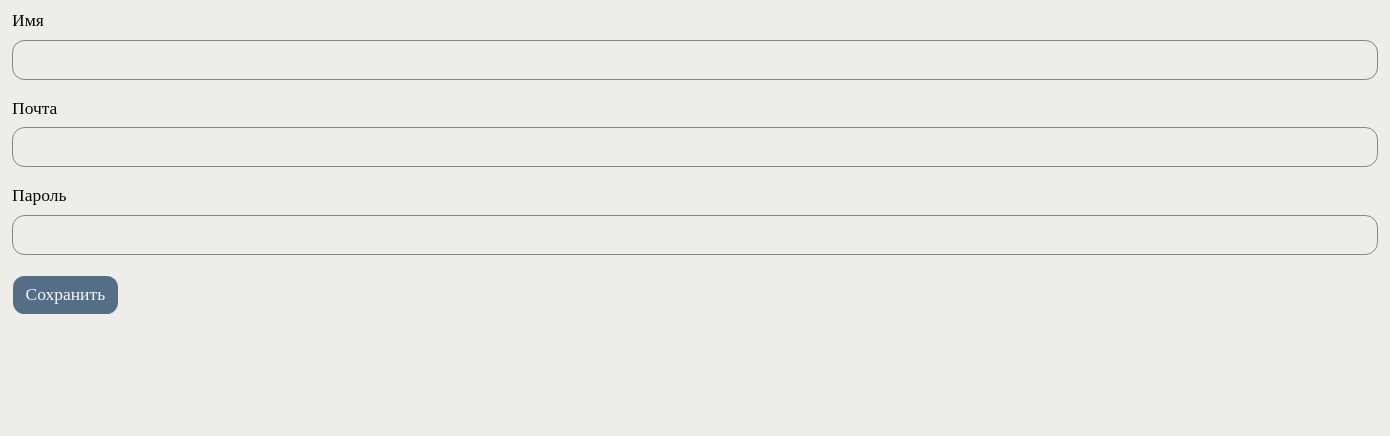
Scenario: useFormAction › отказ сервера: введённое остаётся, ошибка стоит у поля, поле помечено неверным
The image size is (1390, 436).
Type "Анна" into the field labelled "Имя" at point(695, 60), box [12,40,1378,80]
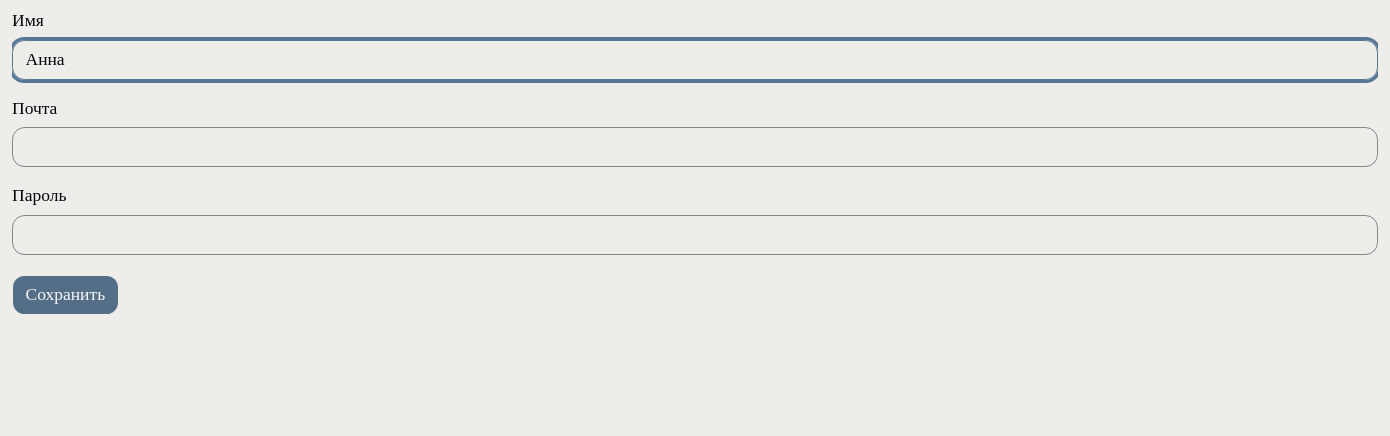
Type "не-почта" into the field labelled "Почта" at point(695, 147), box [12,127,1378,167]
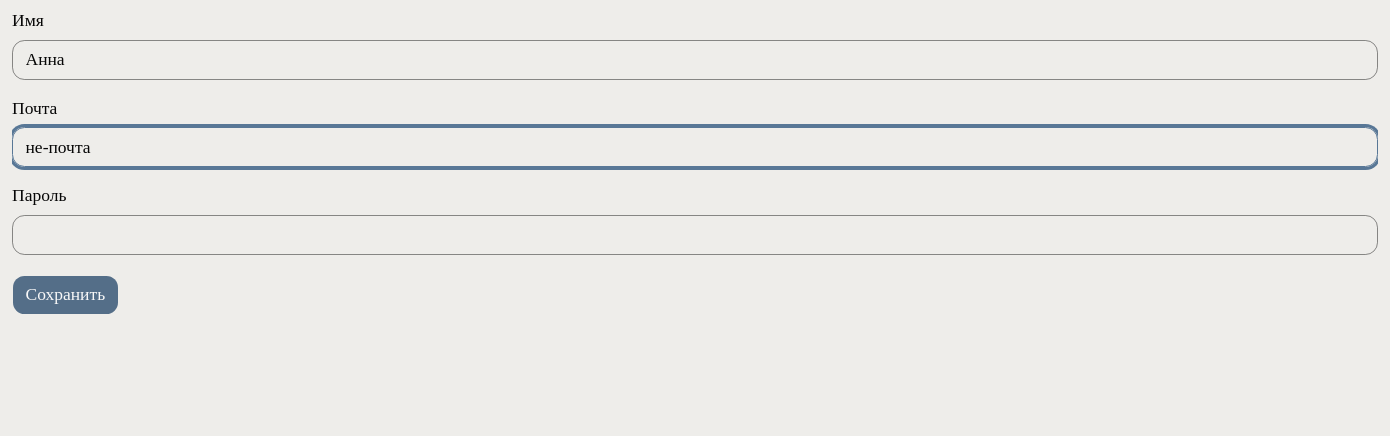
Type "секрет" into the password field labelled "Пароль" at point(695, 234), box [12,214,1378,254]
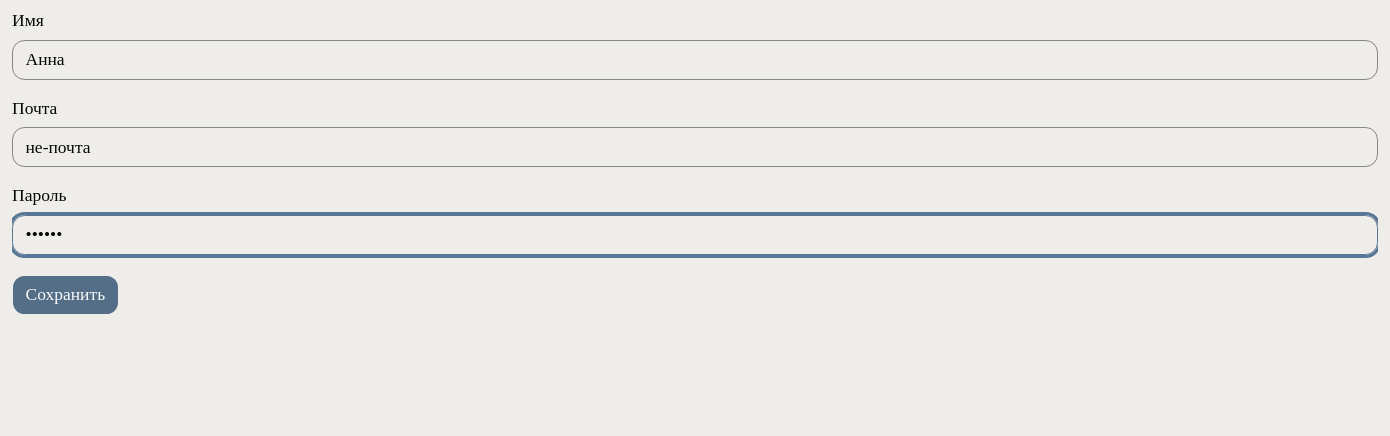
Click the button "Сохранить" at point(65, 294), box [12,274,119,314]
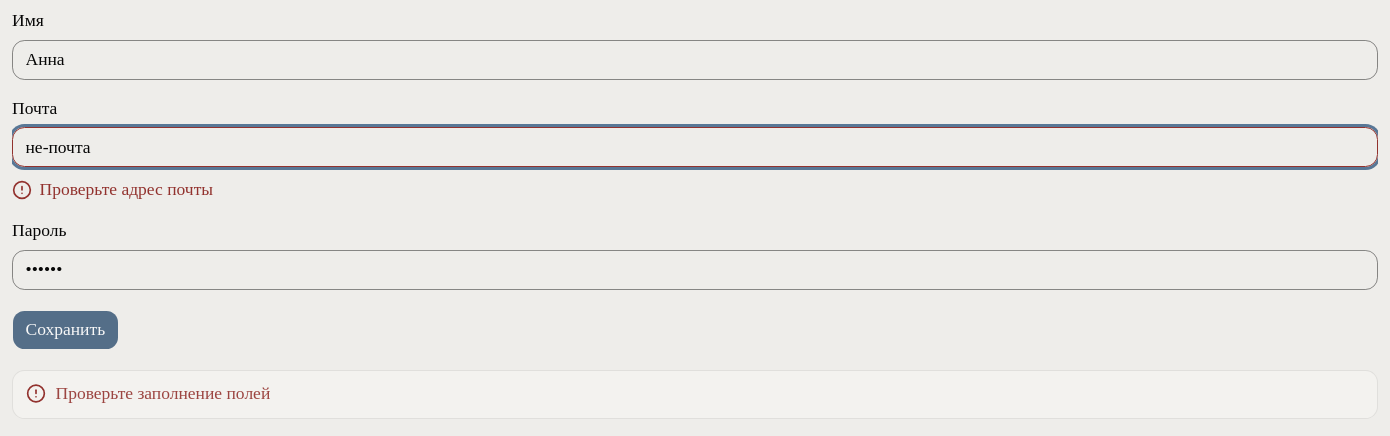
Expected: the message reads "Проверьте заполнение полей", [56,382,270,402]
